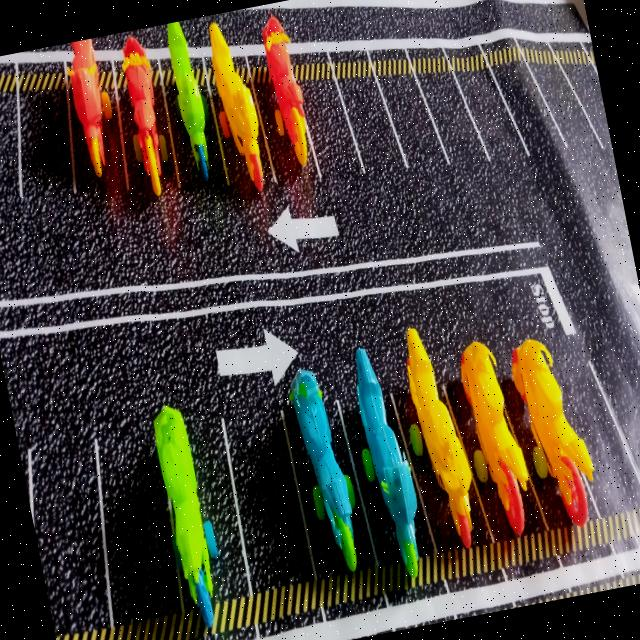occupied: (393, 331, 495, 557), (339, 347, 435, 581), (155, 406, 251, 623), (444, 345, 552, 537), (494, 338, 602, 526), (281, 369, 380, 568), (243, 38, 321, 192), (163, 22, 228, 200), (67, 38, 130, 191), (202, 53, 275, 184), (118, 38, 180, 188)
slots: (98, 430, 184, 629), (224, 413, 315, 592), (30, 445, 113, 633), (554, 366, 640, 517), (515, 36, 606, 151), (365, 42, 450, 165), (443, 38, 526, 163), (479, 36, 569, 151), (327, 48, 406, 172), (405, 45, 488, 162), (289, 48, 365, 175), (18, 62, 76, 198), (550, 36, 606, 151), (0, 67, 22, 194)
